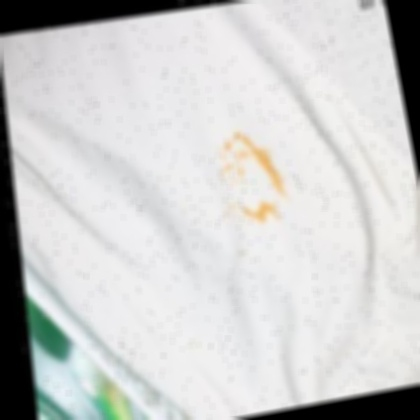kimchi: (206, 129, 264, 186), (221, 189, 291, 227), (256, 145, 291, 202)
